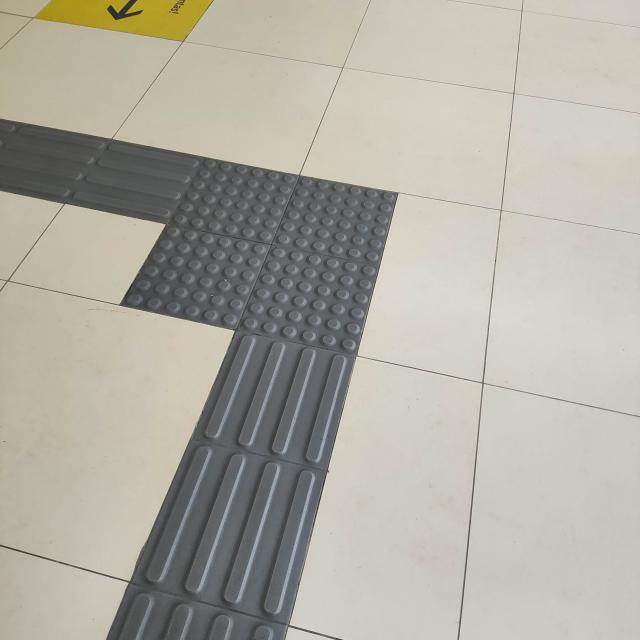kiri: (0, 74, 429, 421)
